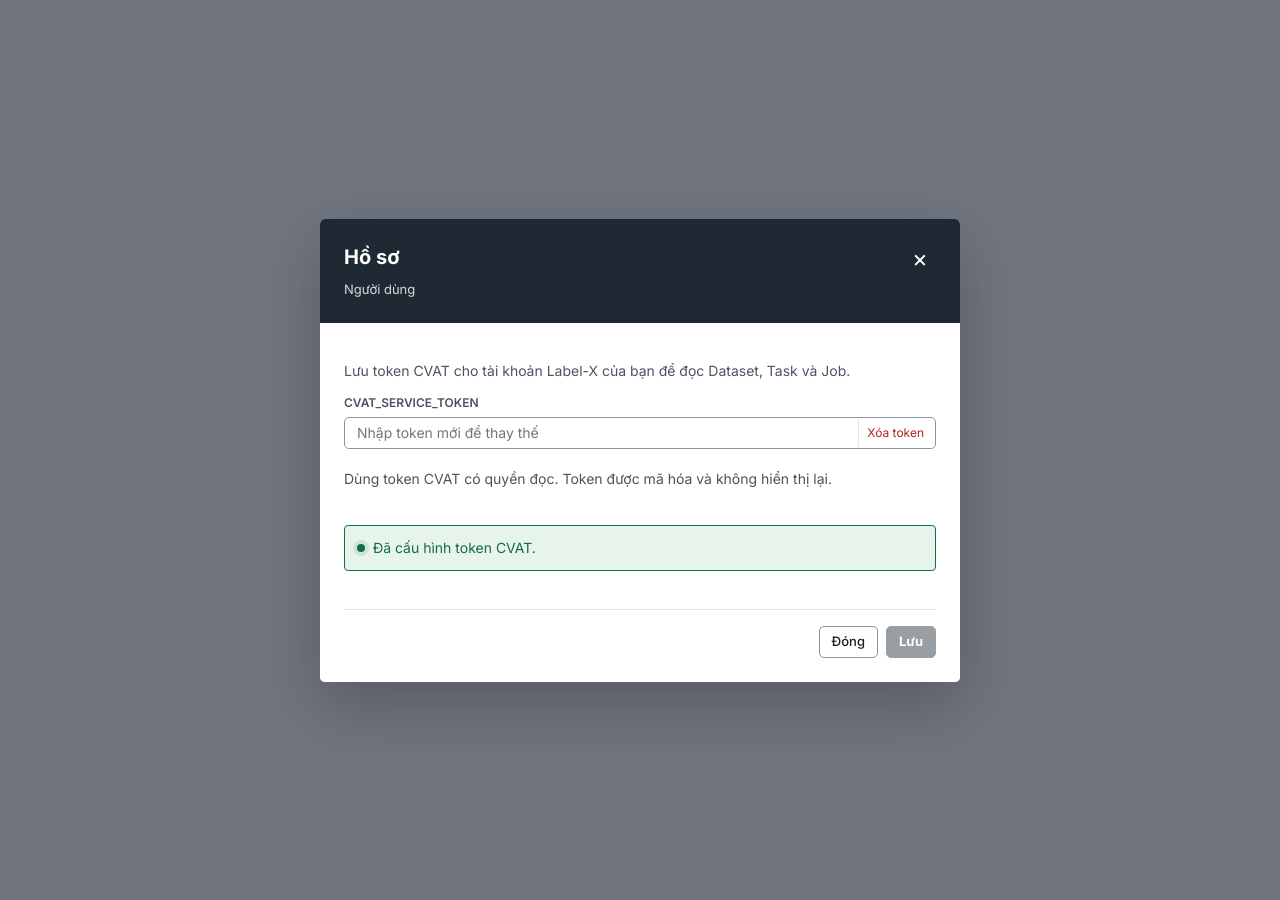
Test: keeps the stored token status after deletion fails
Step 1. Click the button with aria-label "Xóa token CVAT hiện tại" → click(895, 432), box x1=858 y1=418 x2=932 y2=446
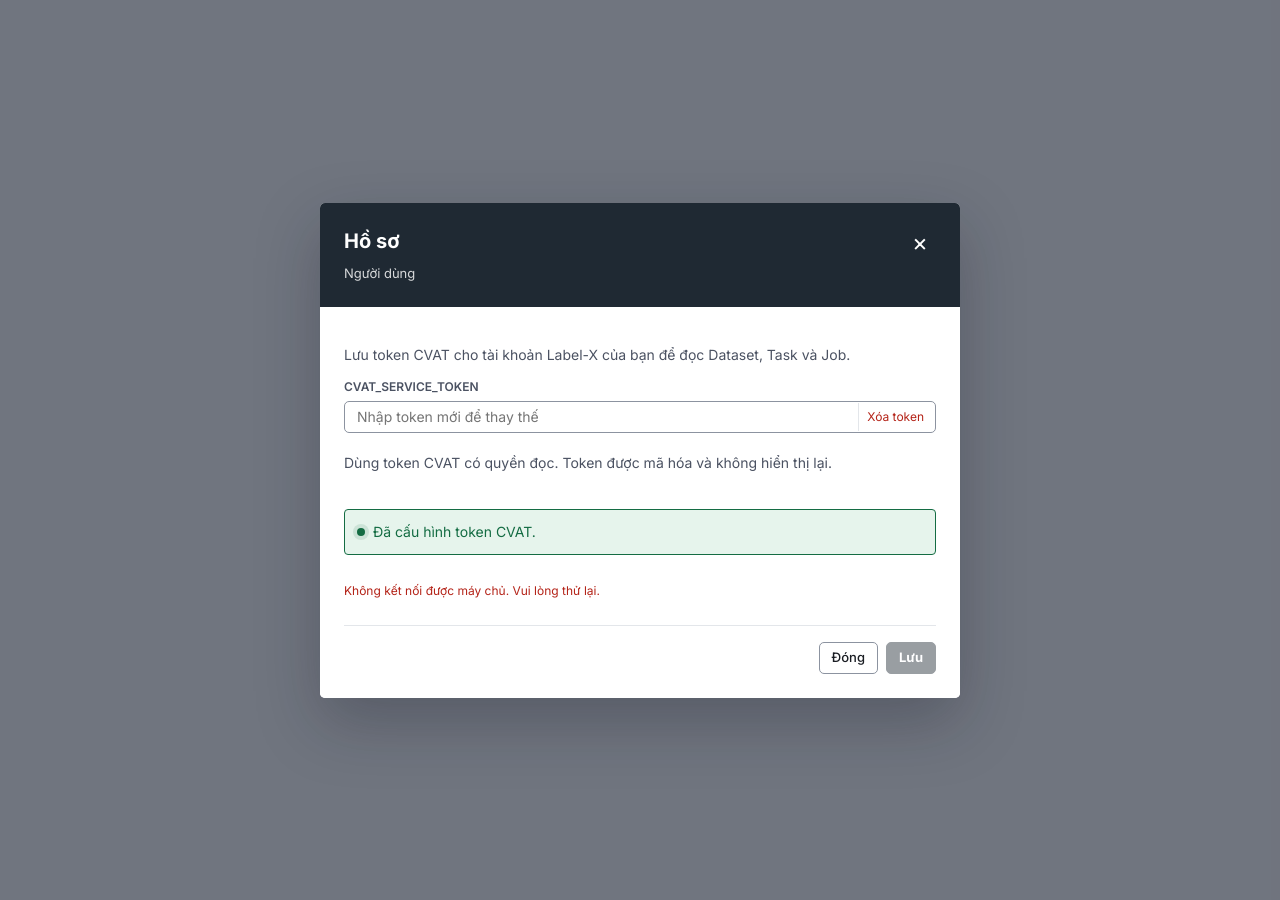
Expected: the text "Đã cấu hình token CVAT." is shown, x1=344 y1=508 x2=936 y2=554
Expected: the message "Không kết nối được máy chủ. Vui lòng thử lại." is shown, x1=344 y1=582 x2=600 y2=598
